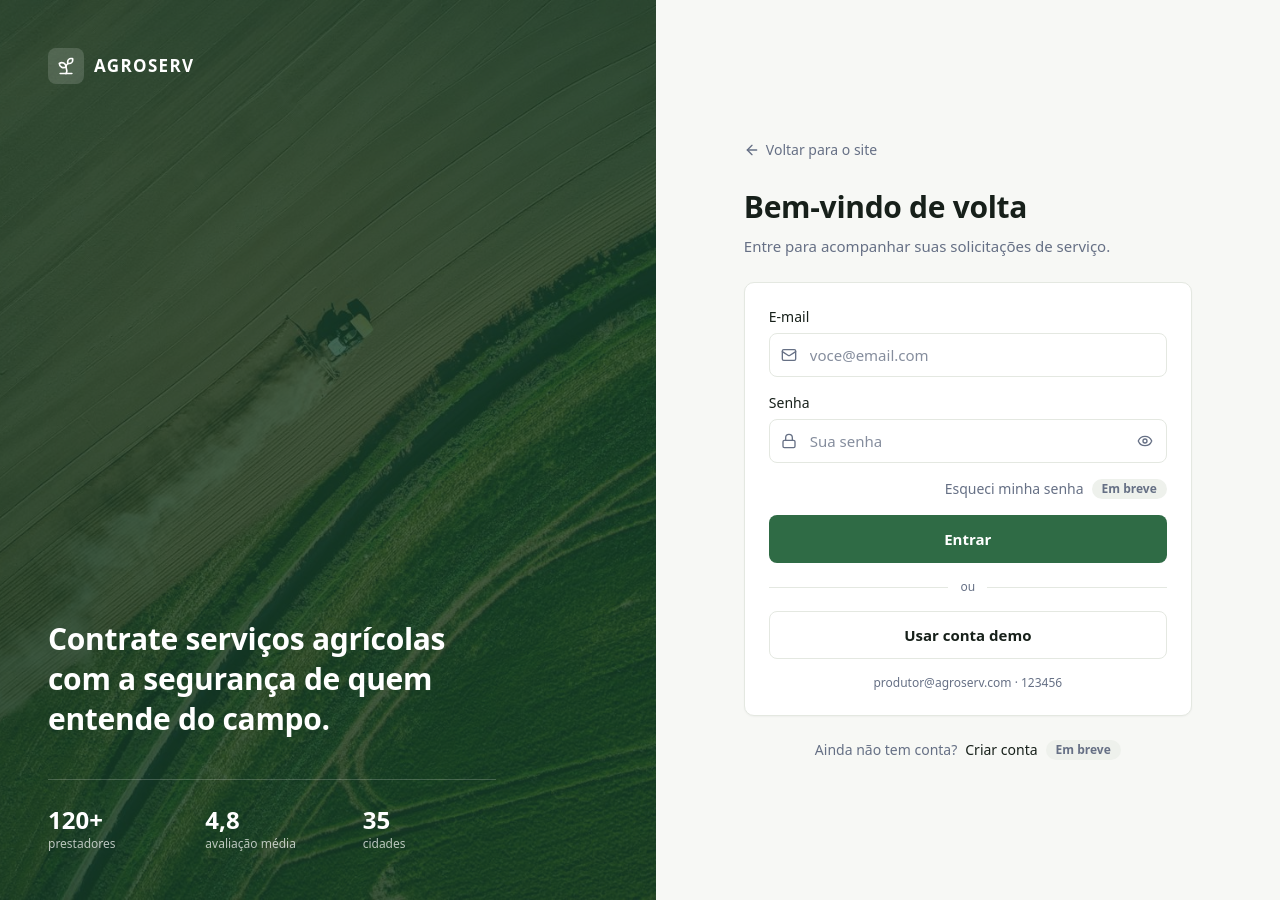
it: LoginPage › shows the API message for wrong credentials
Step 1. Type "produtor@agroserv.com" into the field labelled "E-mail" → [968, 355], box 769,333 -> 1167,377
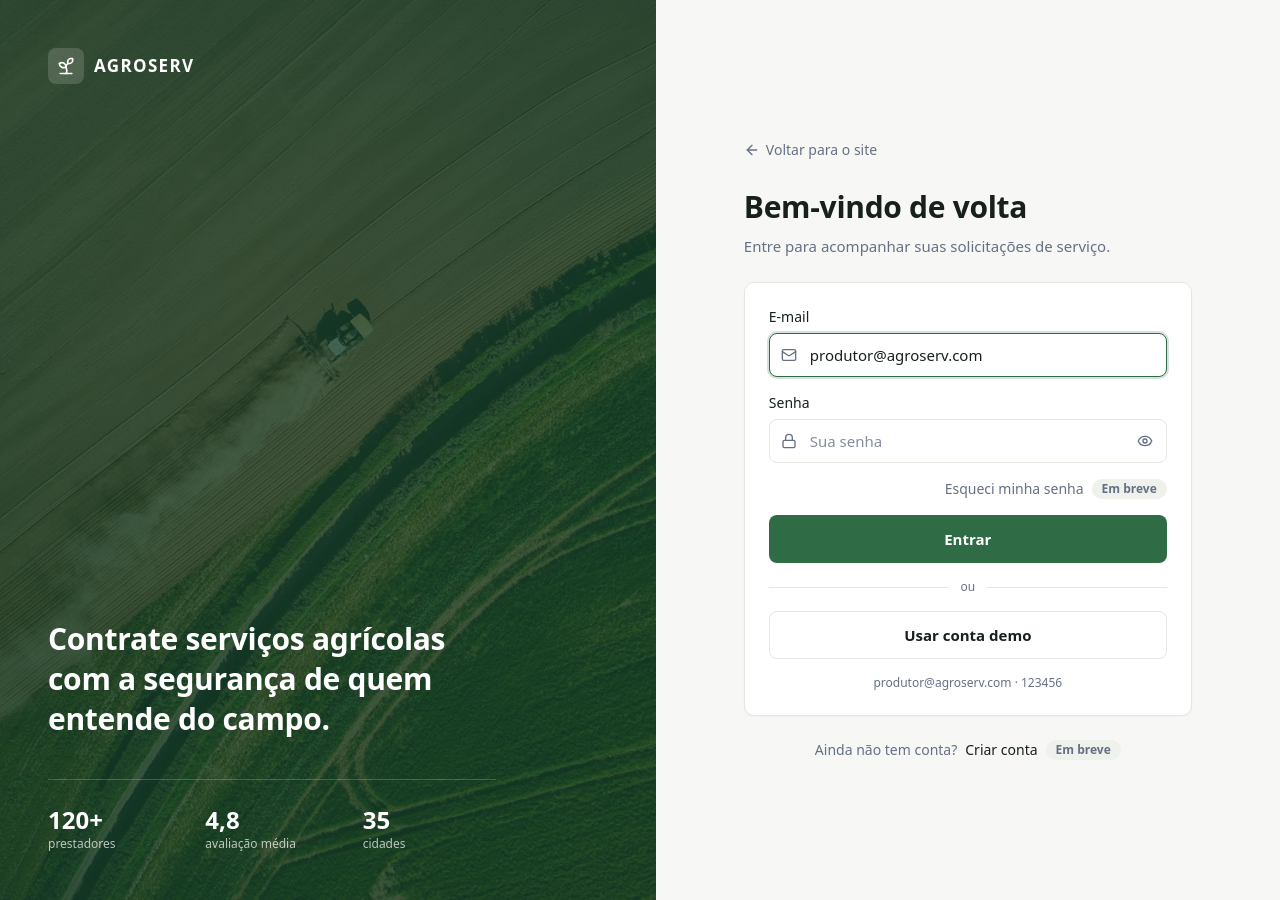
Step 2. Type "errada" into the password field labelled "Senha" → [968, 441], box 769,419 -> 1167,463
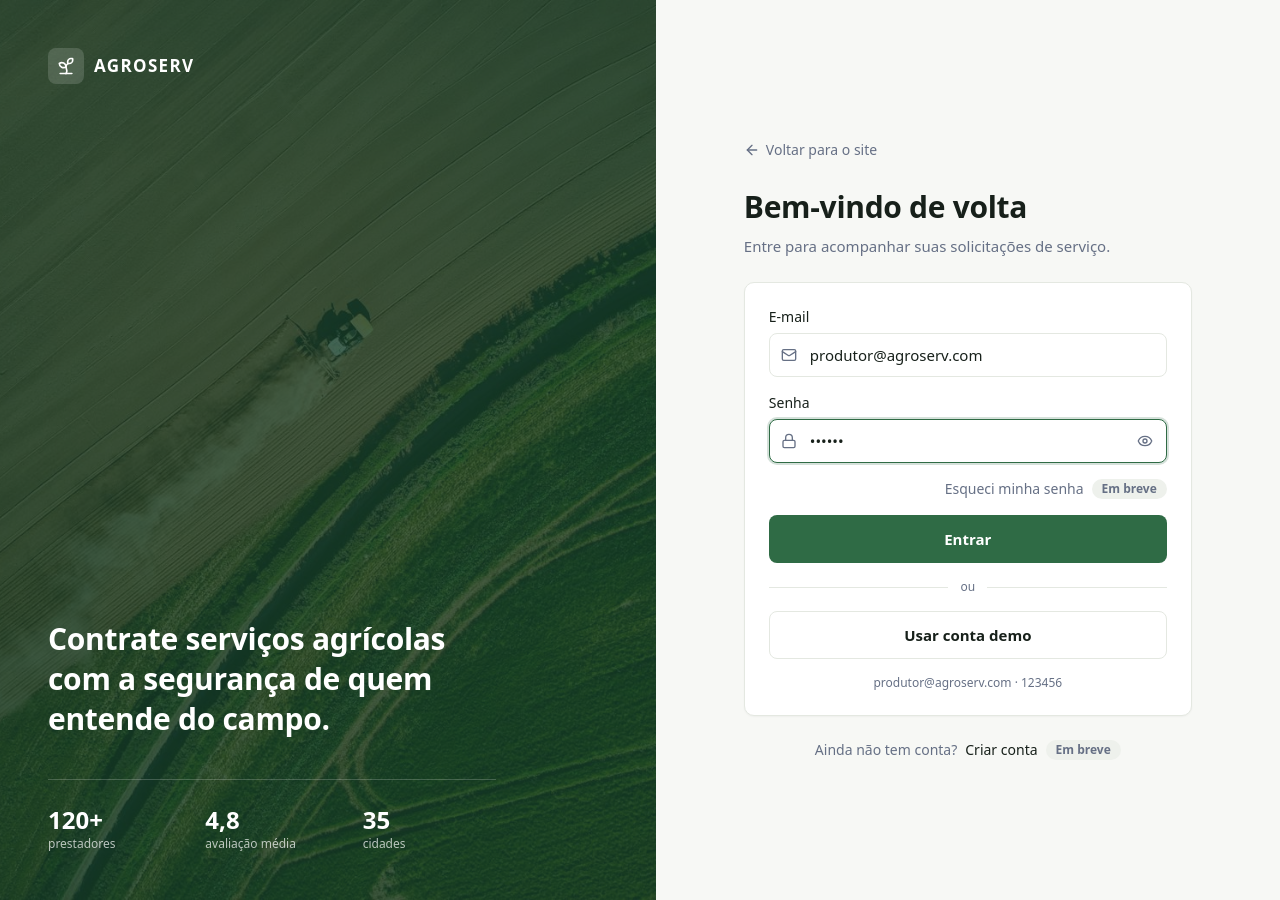
Step 3. Click the button "Entrar" → [968, 539], box 769,515 -> 1167,563
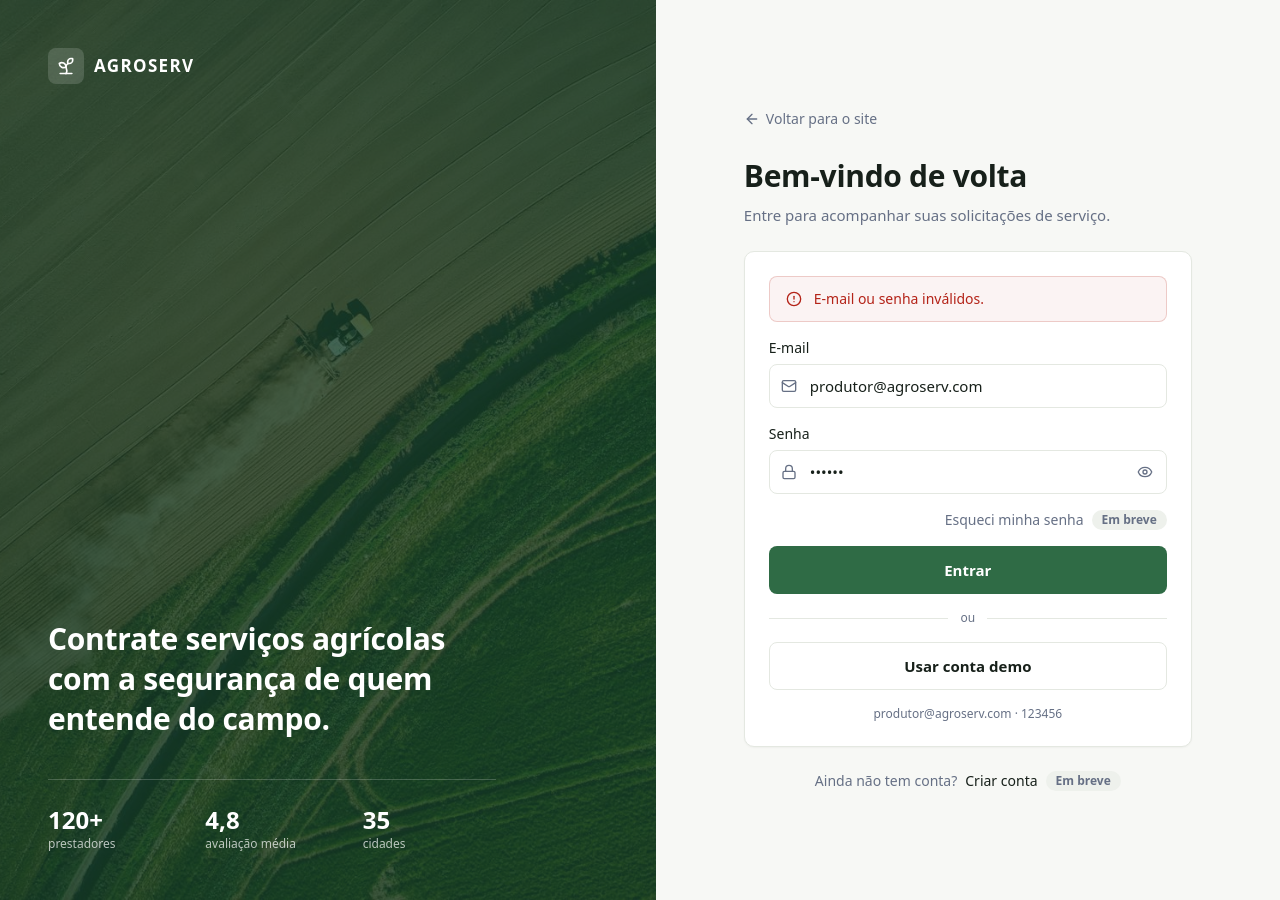
Expected: the message reads "E-mail ou senha inválidos.", 814,289 -> 984,308
